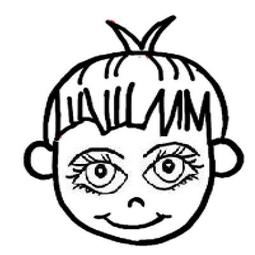ear: (20, 140, 58, 180), (210, 140, 246, 179)
eye: (67, 152, 133, 196), (142, 146, 205, 192)
eyebrow: (136, 140, 203, 161), (68, 143, 128, 164)
mouth: (93, 206, 174, 233)
nose: (124, 193, 147, 209)
